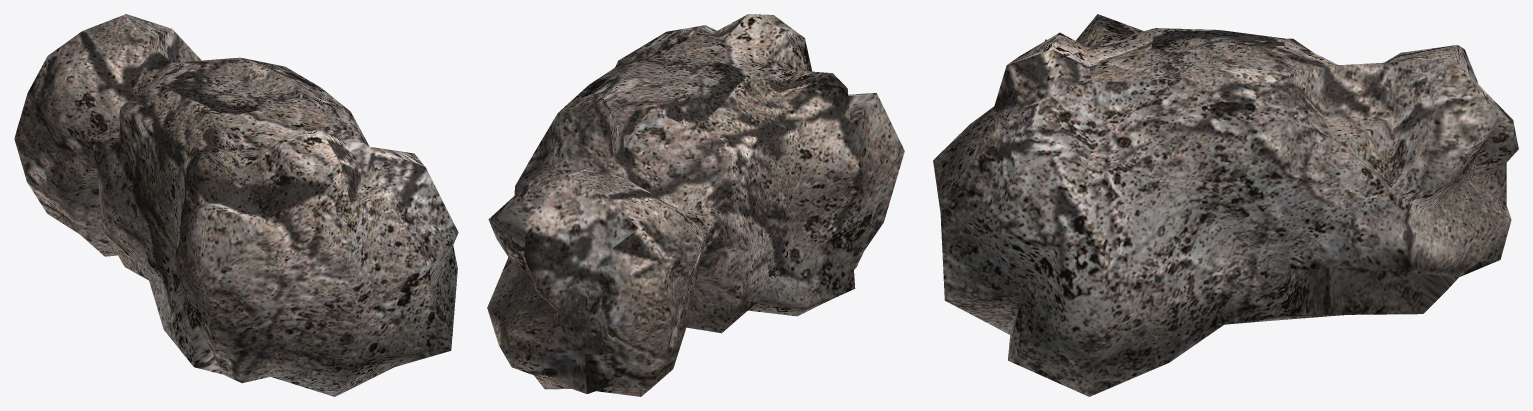
The model's file is Rock_2x5_C.FBX.
3 renders of one model, left to right at view 1: azimuth 30°, elevation 25°; view 2: azimuth 150°, elevation 25°; view 3: azimuth 270°, elevation 25°, orthographic. The views are drawn at different scales.
Visible parts, largest first — view 1: Rock_2x5_C; view 2: Rock_2x5_C; view 3: Rock_2x5_C.
Part boxes in pixels (left/top/right/bottom): Rock_2x5_C: left=14, top=14, right=458, bottom=396; Rock_2x5_C: left=487, top=14, right=904, bottom=396; Rock_2x5_C: left=933, top=14, right=1518, bottom=396.
Bounding box in the file's own units: 3.32 × 2.93 × 5.53.
1 material, 1 textured.
